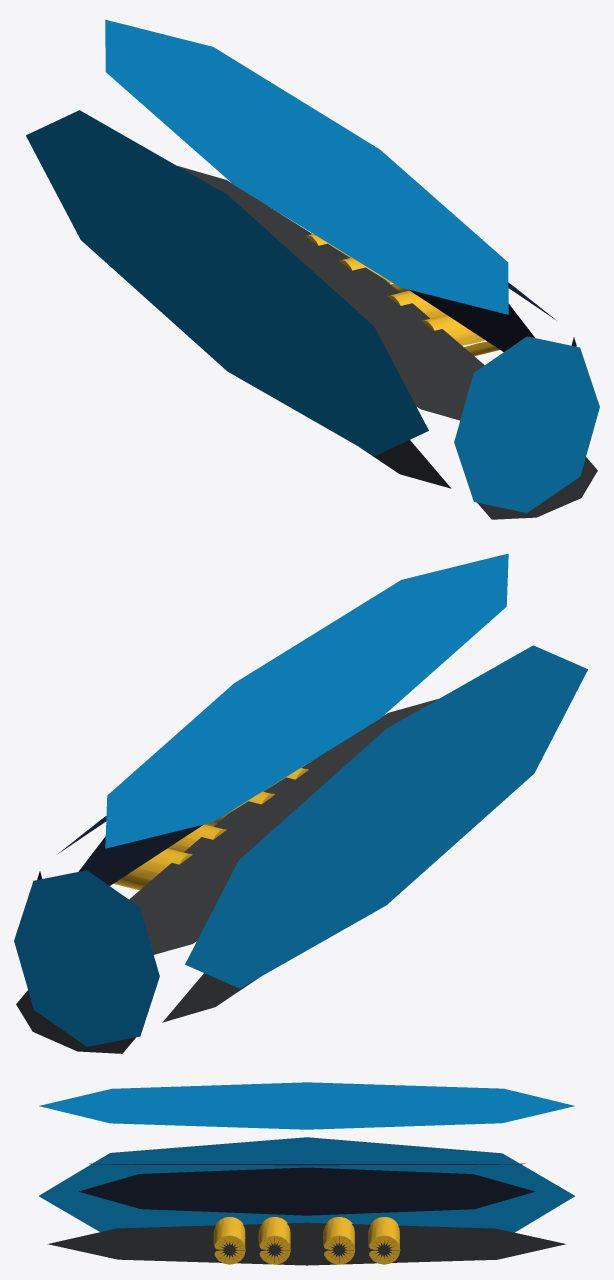
The model's file is rear_bumper.glb.
The picture shows the model from 3 angles, top to bottom: view 1: azimuth 30°, elevation 25°; view 2: azimuth 150°, elevation 25°; view 3: azimuth 270°, elevation 25°; orthographic projection. The views are drawn at different scales.
Visible parts, largest first — view 1: Rear_Bumper_Fascia_Assembly; view 2: Rear_Bumper_Fascia_Assembly; view 3: Rear_Bumper_Fascia_Assembly.
Boxes of the visible parts, left/top/right/bottom form: Rear_Bumper_Fascia_Assembly: left=26, top=19, right=599, bottom=519; Rear_Bumper_Fascia_Assembly: left=14, top=553, right=587, bottom=1053; Rear_Bumper_Fascia_Assembly: left=39, top=1082, right=574, bottom=1265.
Size of the model in its own units: 0.52 by 0.46 by 1.82.
